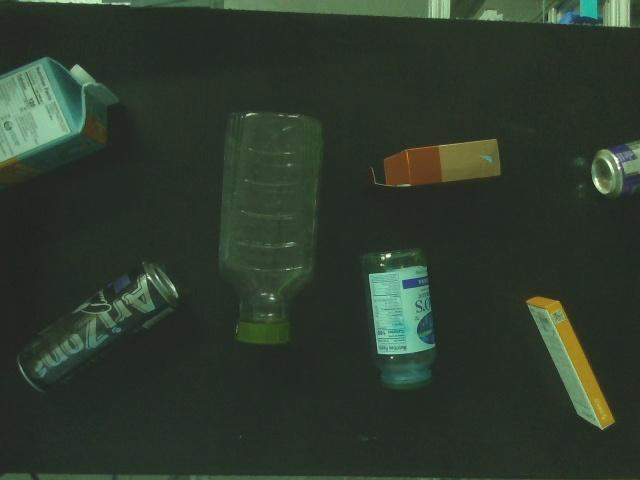cardboard: (0, 52, 121, 190), (526, 295, 616, 431), (368, 136, 502, 191)
metal: (15, 256, 181, 398), (591, 138, 640, 202)
plastic: (220, 108, 324, 346), (358, 245, 448, 392)
